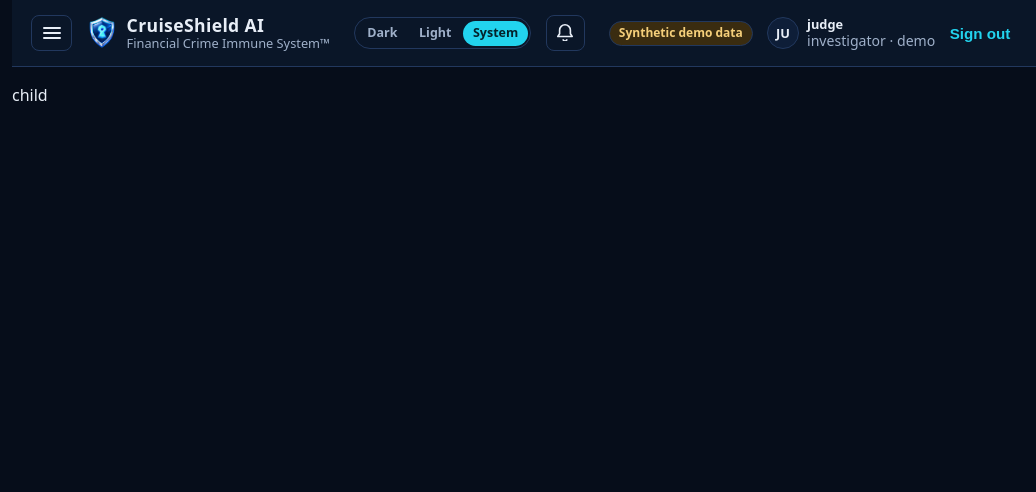
it: AppShell › shows the session user and signs out from the profile
Expected: the text "judge" is shown, [807,15,843,33]
Expected: the text "investigator · demo" is shown, [807,32,935,50]
Click the button "Sign out": (980, 33) [943,16,1017,50]
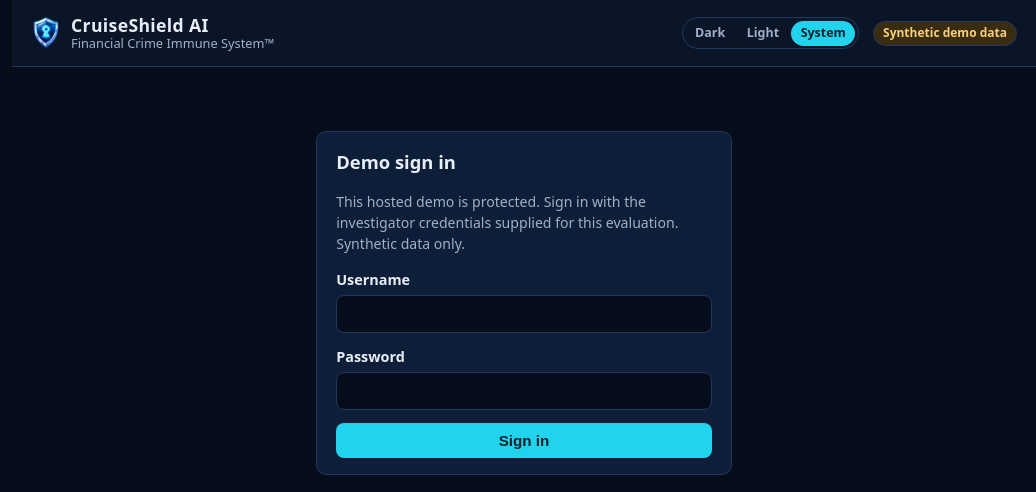
Now the heading "Demo sign in" is shown, box [336,149,456,174]
